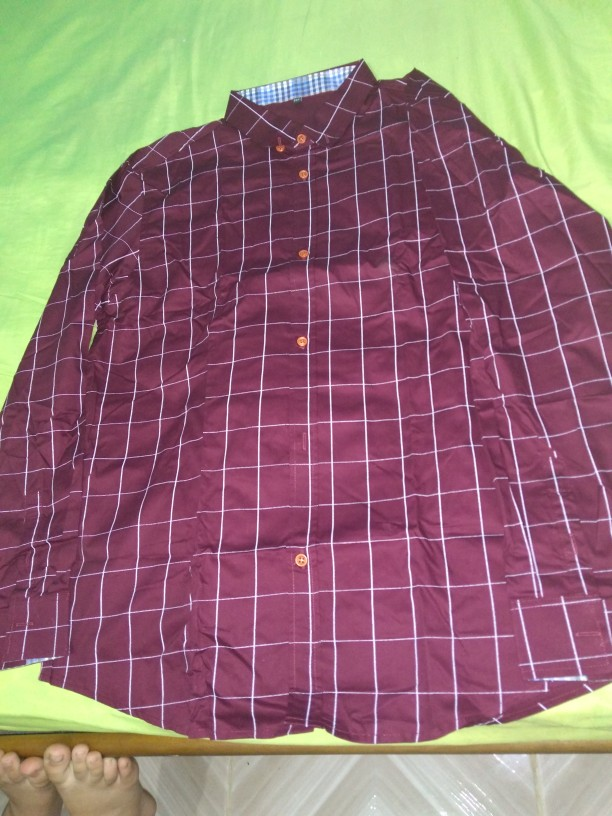shirts: (26, 88, 612, 730)
